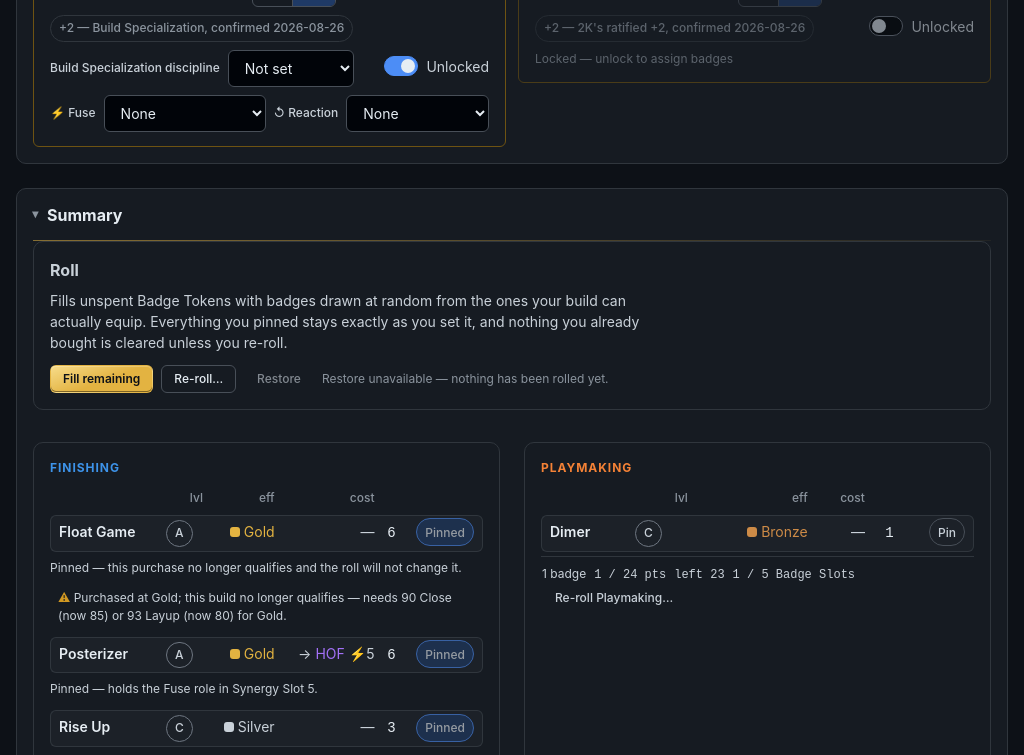
Test case: 3 — the re-roll confirm › 3.1 — `Re-roll…` opens #dialog-reroll and it is NOT what querySelector finds
This screenshot has width=1024, height=755.
(page scrolled)
Click the button "Re-roll…": click(199, 379) [161, 365, 236, 393]
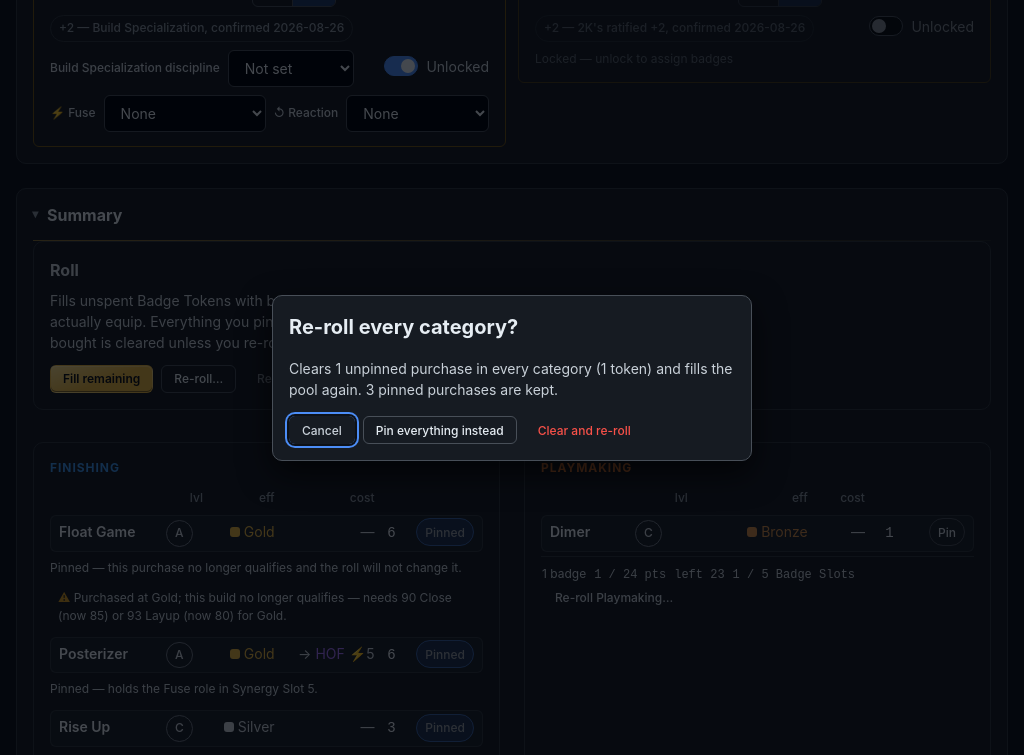
Expected: the dialog with id "dialog-reroll" is shown, [272, 295, 752, 461]
